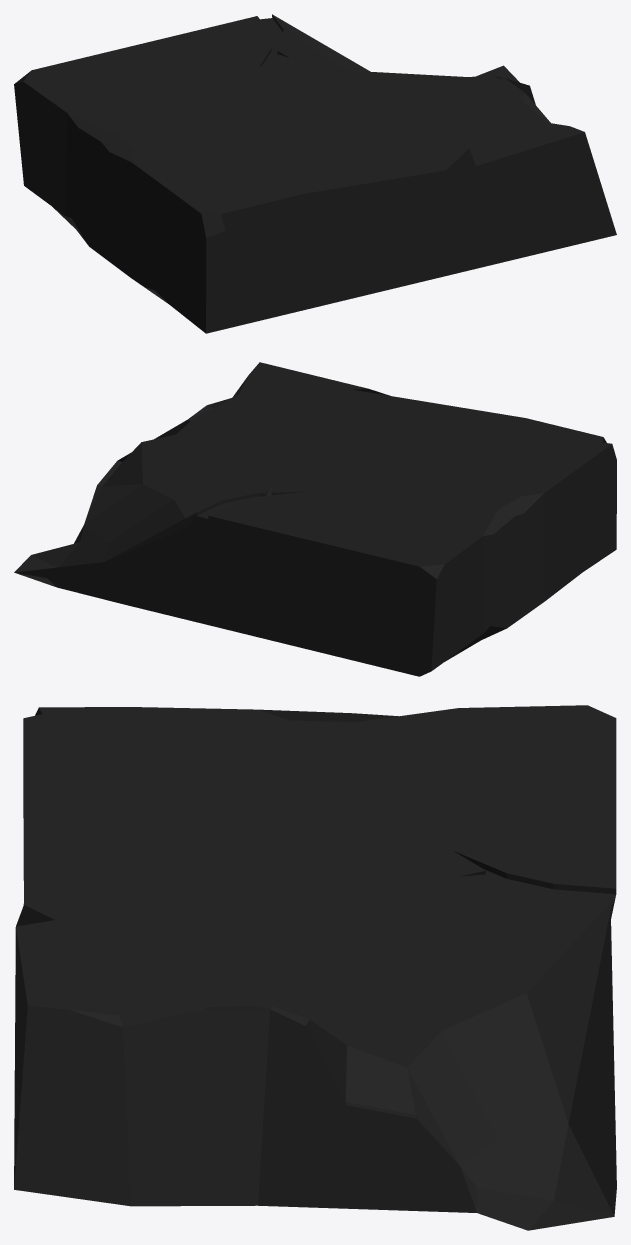
File: wall_with_ramp.glb
The picture shows the model from 3 angles, top to bottom: view 1: azimuth 30°, elevation 25°; view 2: azimuth 150°, elevation 25°; view 3: azimuth 270°, elevation 25°; orthographic projection. The views are drawn at different scales.
Parts seen in each view (by area): view 1: Cube; view 2: Cube; view 3: Cube.
Part boxes in pixels (x1=…): Cube: x1=14, y1=14, x2=616, y2=333; Cube: x1=14, y1=362, x2=616, y2=676; Cube: x1=14, y1=705, x2=616, y2=1230.
Size of the model in its own units: 4.15 by 1.03 by 3.05.
1 material, 1 textured.
